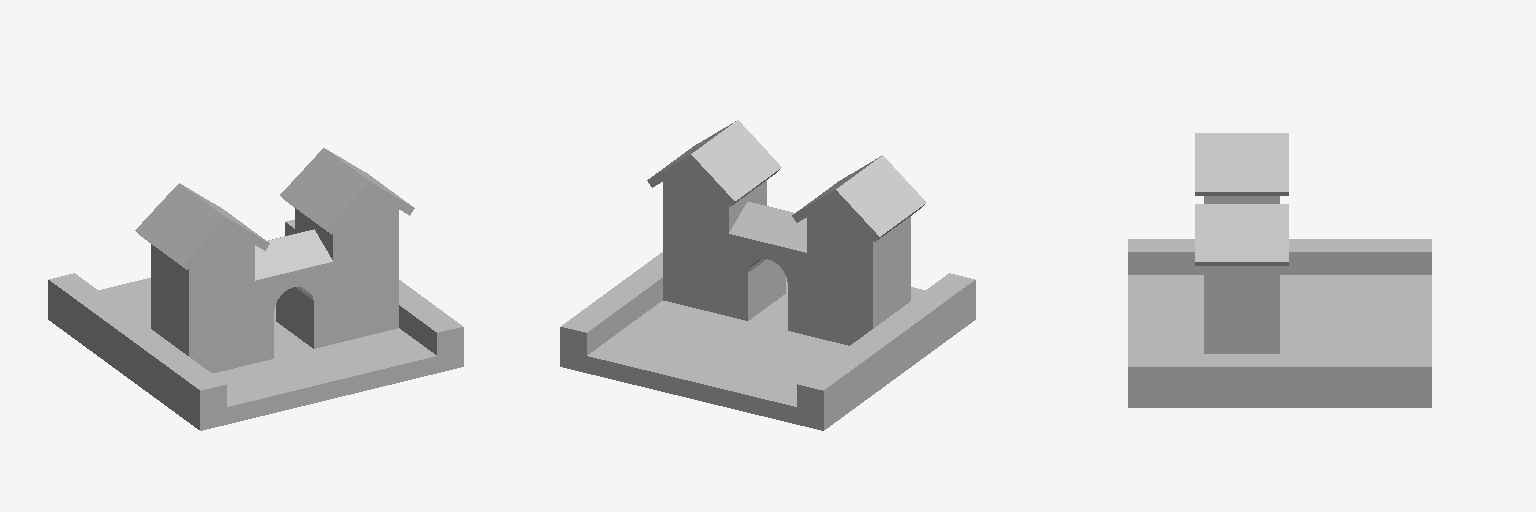
The model's file is castle.obj.
3 renders of one model, left to right at view 1: azimuth 30°, elevation 25°; view 2: azimuth 150°, elevation 25°; view 3: azimuth 270°, elevation 25°, orthographic.
Visible parts, largest first — view 1: castle; view 2: castle; view 3: castle.
Part boxes in pixels (bbox=[...]): castle: bbox=[48, 148, 463, 430]; castle: bbox=[560, 120, 975, 430]; castle: bbox=[1128, 133, 1431, 407].
Bounding box in the file's own units: 0.9999 × 0.635 × 0.9999.